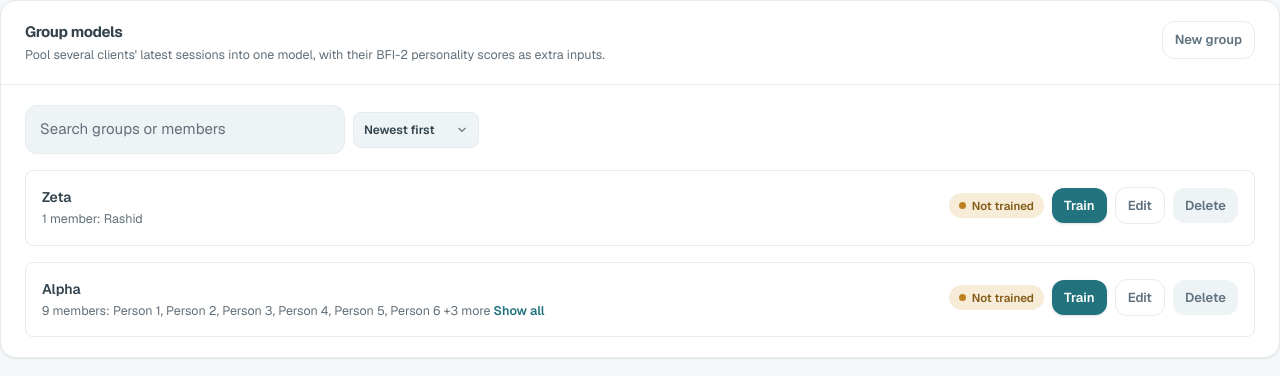
Test: MlGroupsPanel › the group list searches groups and members, sorts, and folds long member lists
The width and height of the screenshot is (1280, 376).
Expected: the heading "Zeta" is shown, [42,188,72,206]
Select "Name (A–Z)" in the dropdown named "Sort groups" at point(416, 130), box [353,112,479,148]
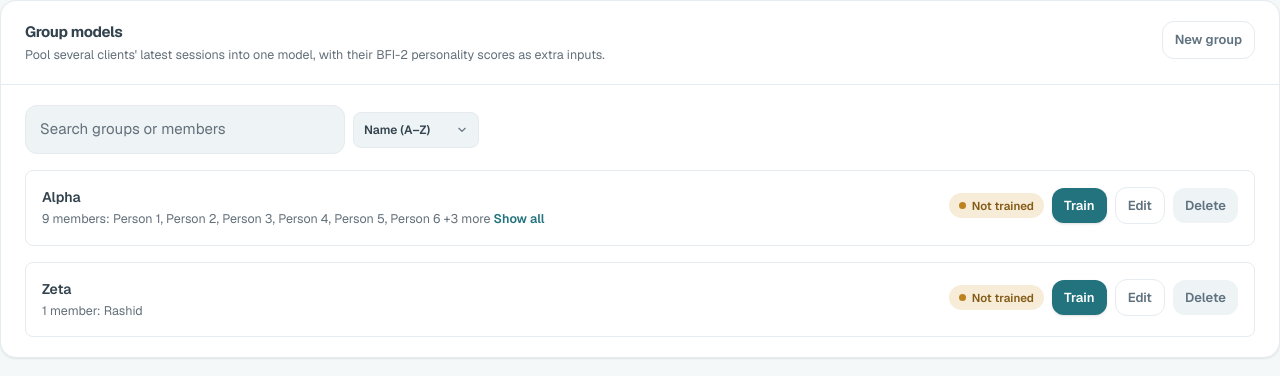
Click the button "Show all" at point(519, 219), box [494,210,544,229]
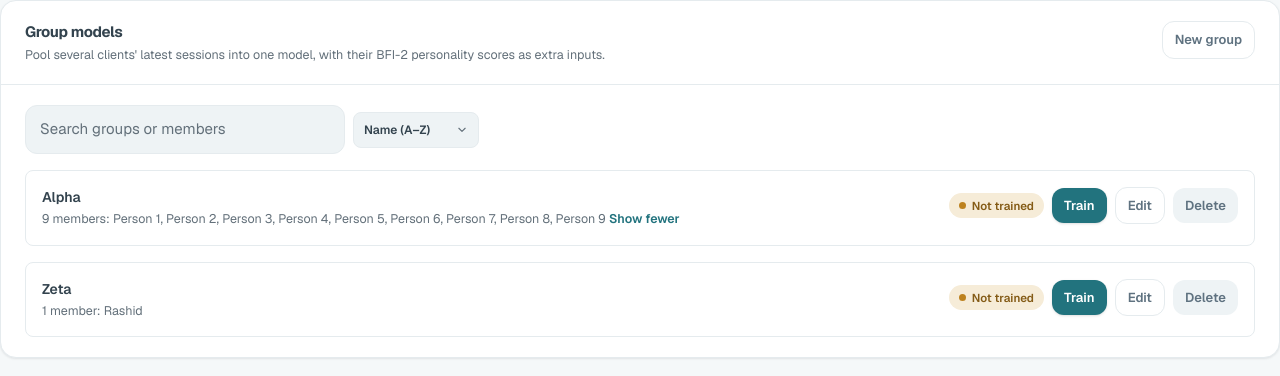
Expected: the text "Person 9" is shown, [113,210,606,227]
Type "rashid" into the field labelled "Search groups or members" at point(185, 130), box [25,105,345,154]
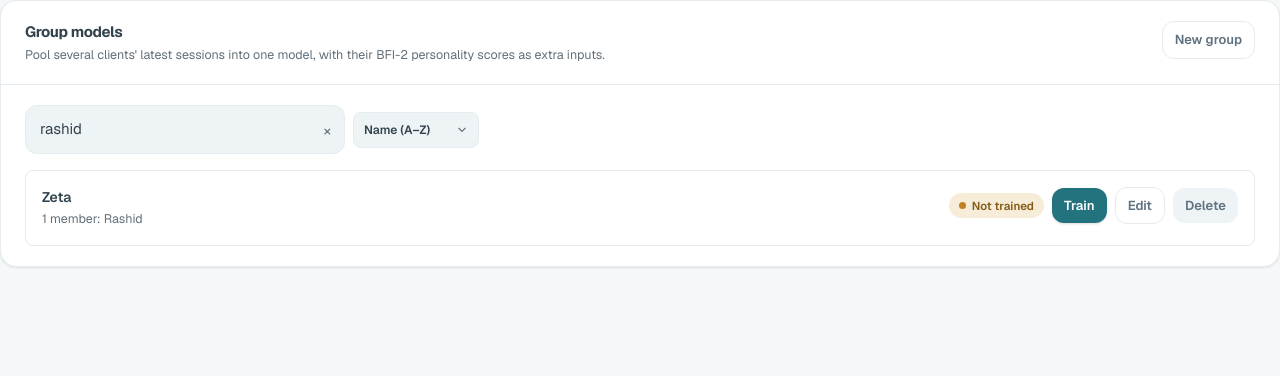
Replace the text in the field named "Search groups or members" with "nobody" at point(185, 130), box [25,105,345,154]
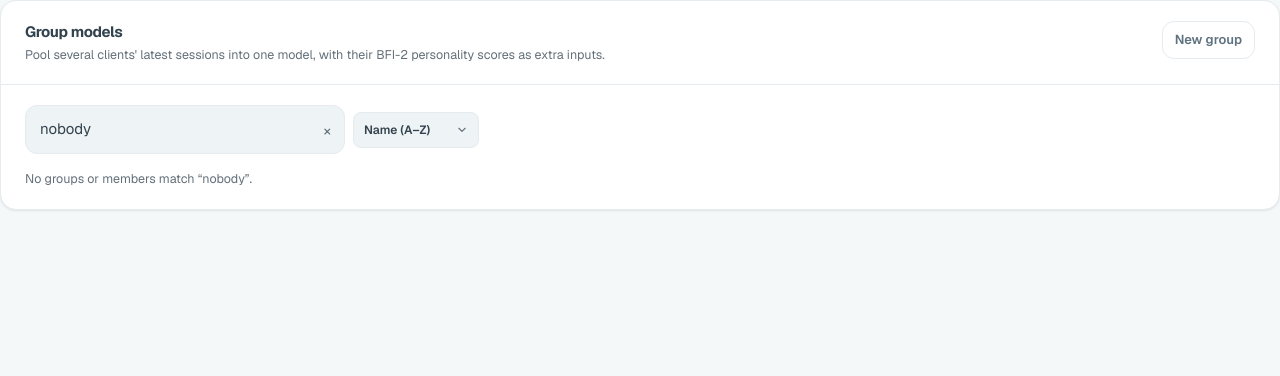
Expected: the text "No groups or members match “nobody”." is shown, [25,170,252,187]
